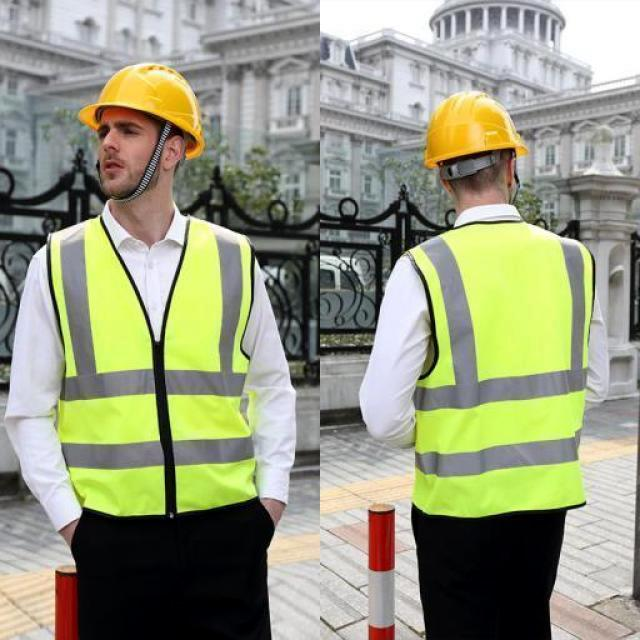hard_hat: (79, 62, 202, 158), (424, 91, 526, 168)
person: (8, 64, 295, 639), (360, 91, 601, 639)
